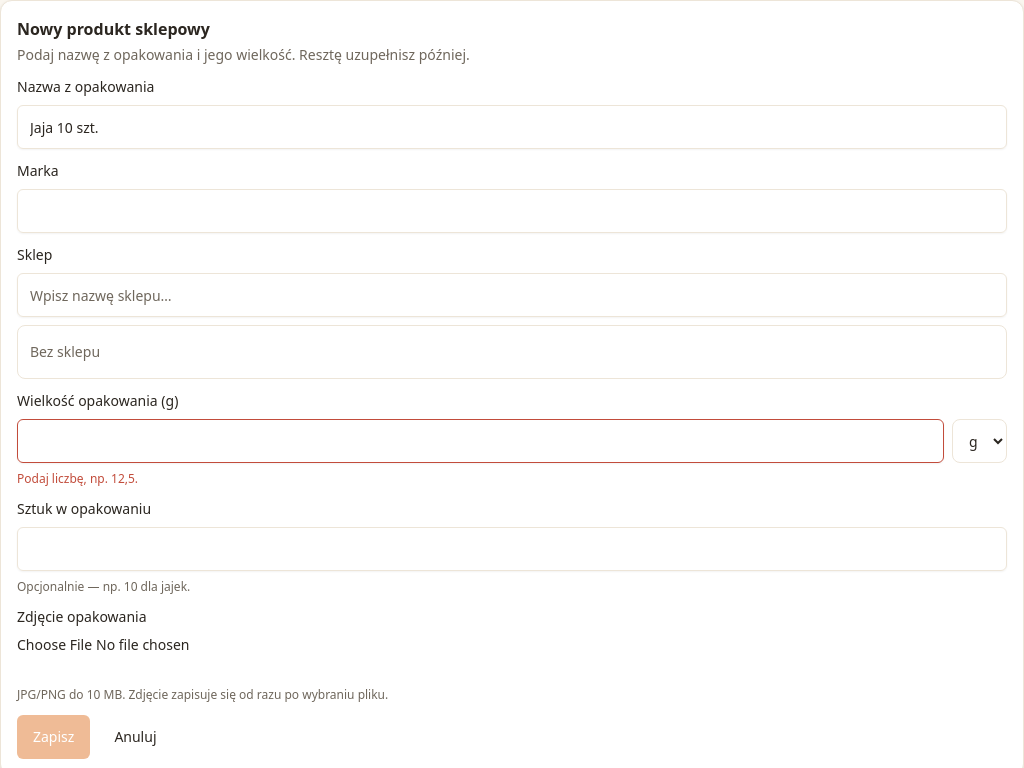
Test: RetailProductCreateDrawer › liczba sztuk w opakowaniu musi być liczbą całkowitą
Type "10" into the field with test id "retail-amount".
click(480, 441); type("10")  # box left=17, top=419, right=944, bottom=463
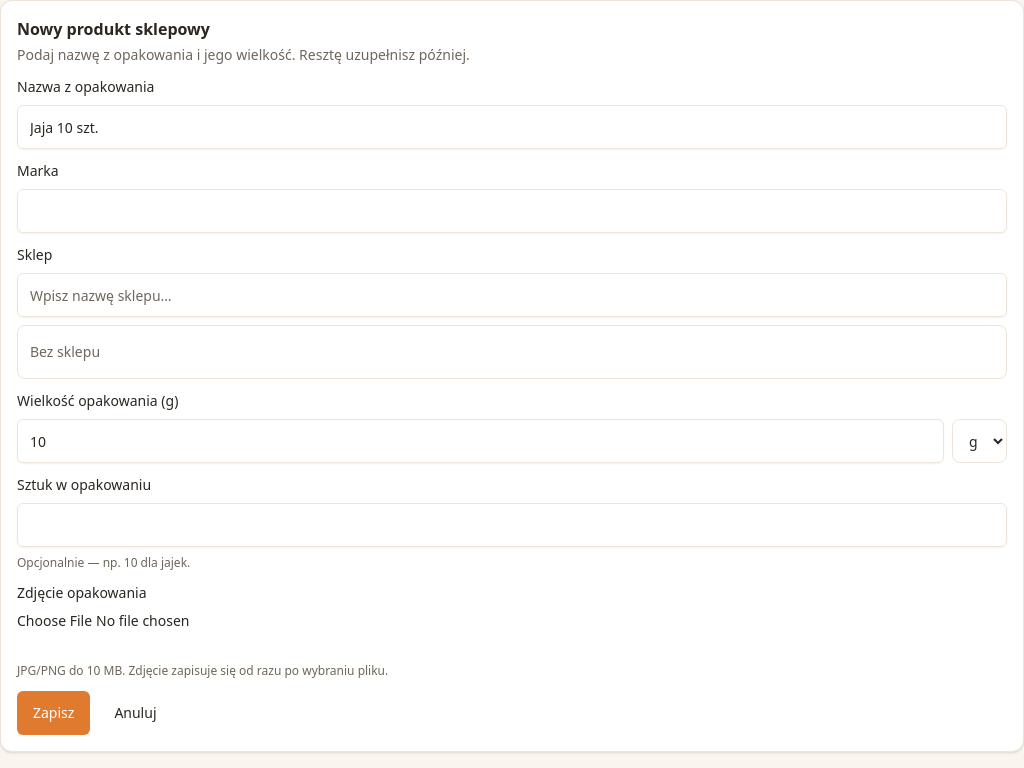
Type "dziesięć" into the field with test id "retail-pieces".
click(512, 525); type("dziesięć")  # box left=17, top=503, right=1007, bottom=547
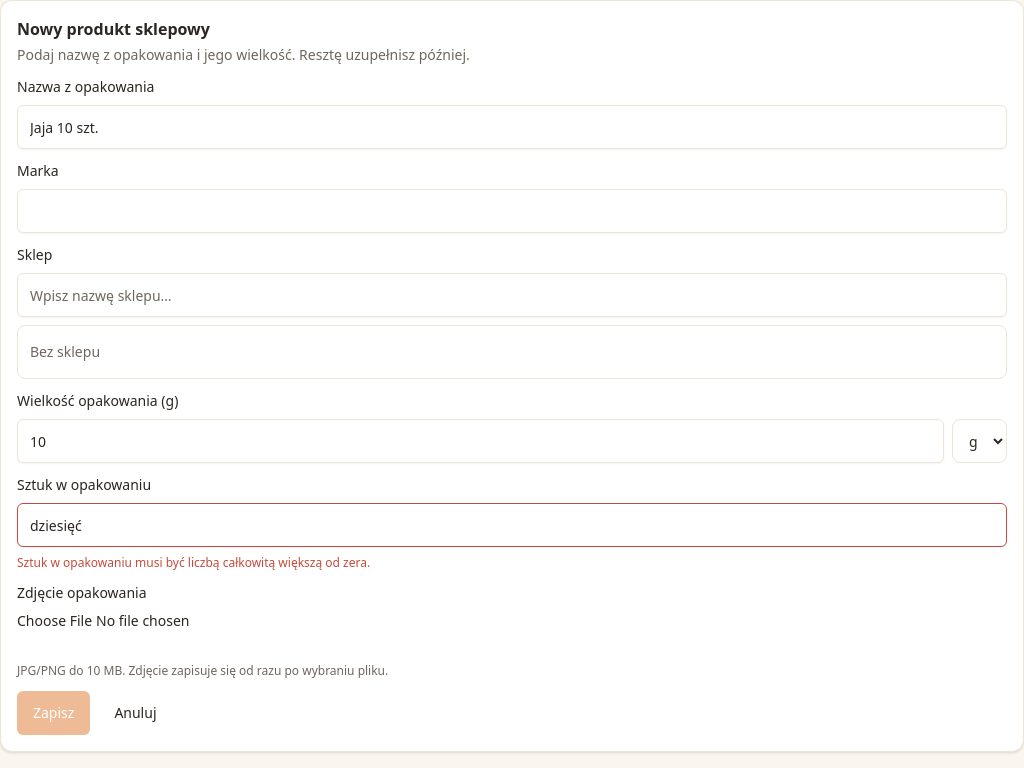
Check: the button with test id "retail-submit" is disabled, box left=17, top=691, right=90, bottom=735
